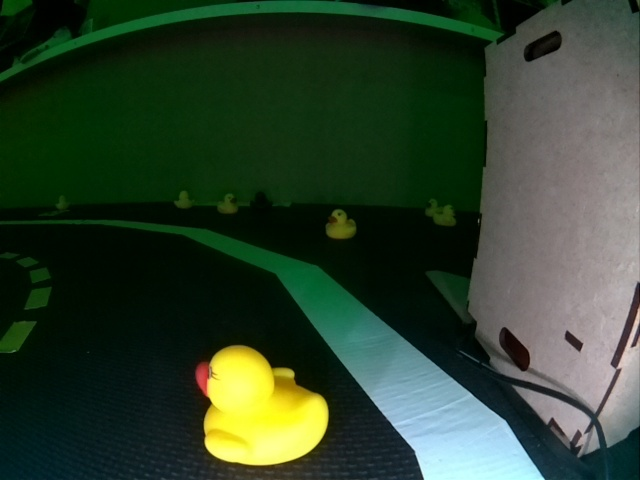Duckie: (198, 347, 329, 466), (326, 212, 356, 239), (435, 205, 457, 227), (217, 193, 239, 214), (173, 190, 194, 209), (425, 200, 438, 215), (55, 194, 67, 209)
